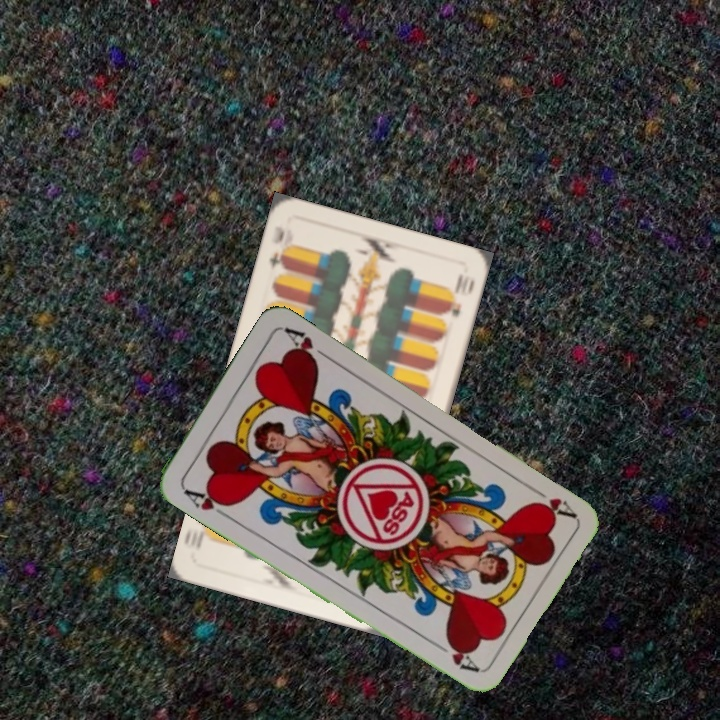E10: (265, 221, 292, 273)
HA: (524, 481, 577, 521), (179, 483, 234, 521)
